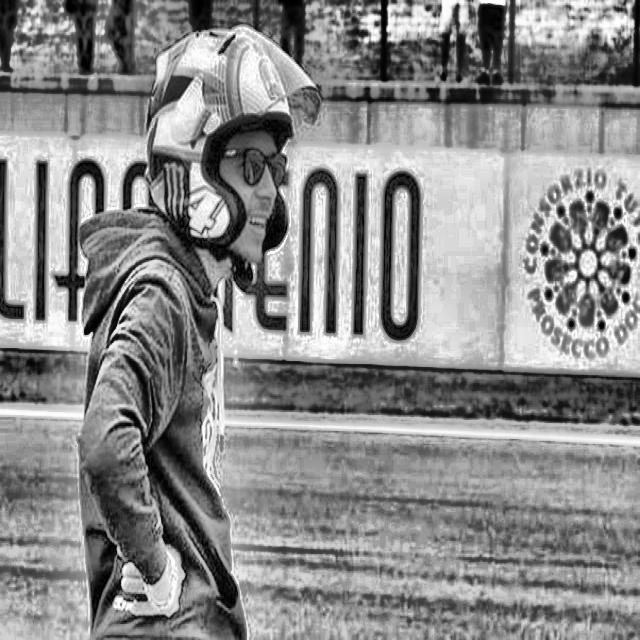Helmet: (140, 21, 319, 304)
